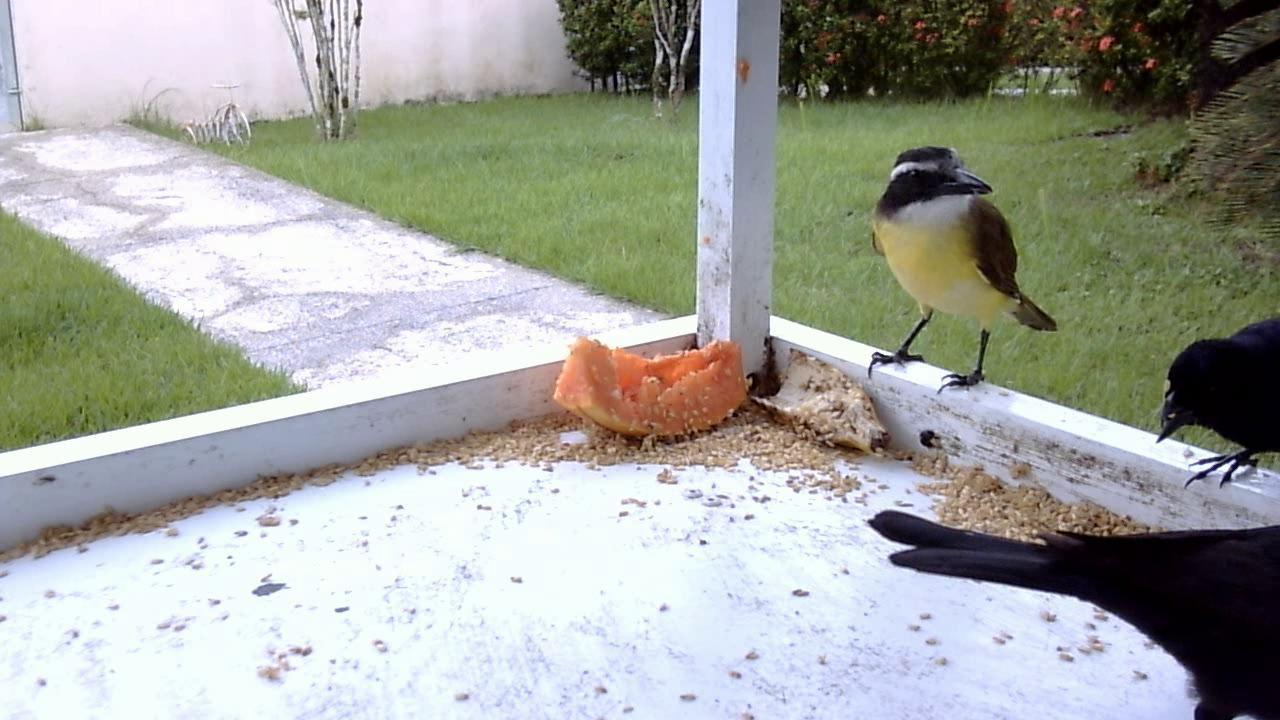bem_te_vi: (855, 133, 1064, 409)
chupim: (871, 489, 1273, 710), (1144, 315, 1275, 507)
